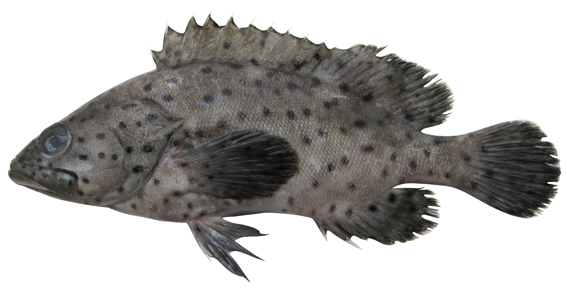fish: (8, 8, 562, 283)
